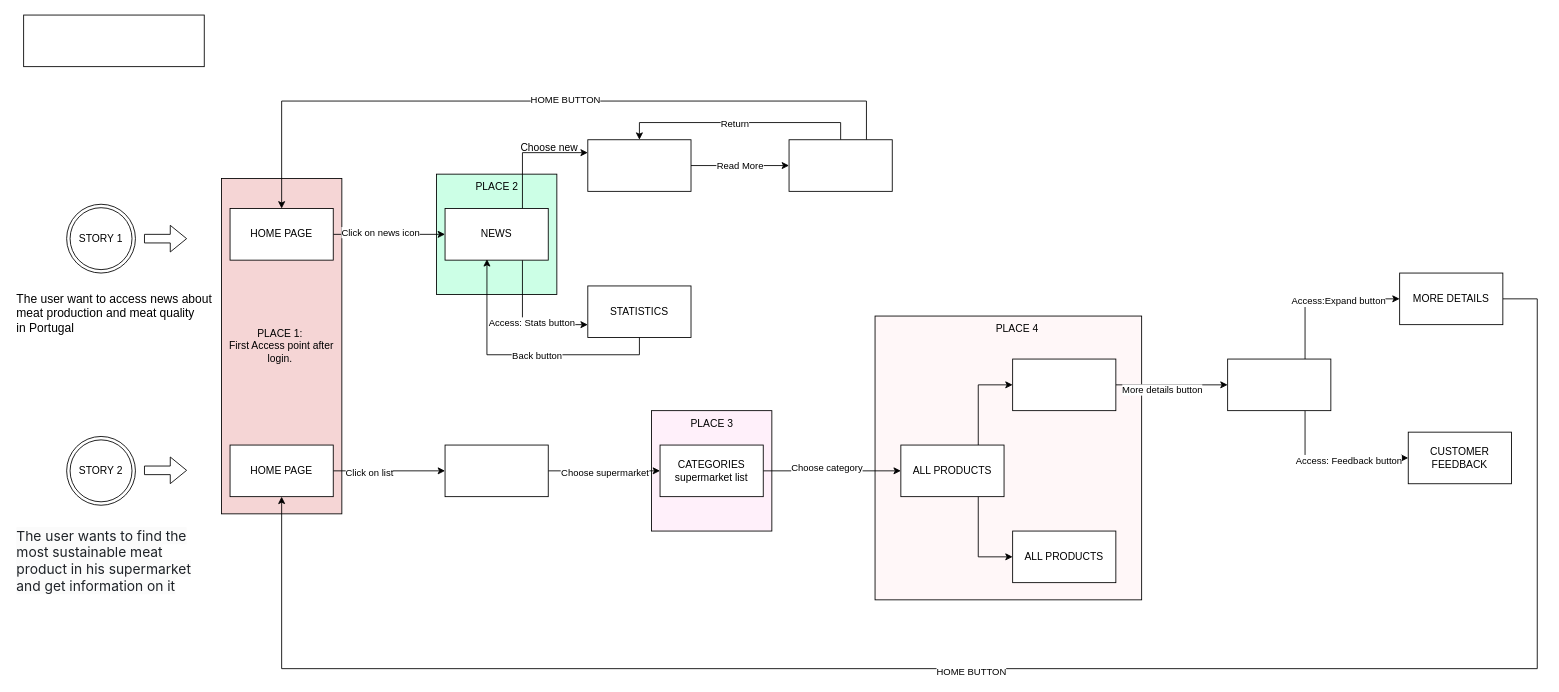
Image size: 1559x692. Some labels were removed from this diagram. Each missing label, with the centre of its shape:
"+ INFORMATION" goes at (x=840, y=165).
"LESS ENVIRONMENTAL IMPCAT PROD" goes at (x=1064, y=384).
"NEWS LIST" goes at (x=639, y=165).
"PROD DETAILS" goes at (x=1279, y=384).
"STORY + FE ORCHESTRATION" goes at (x=113, y=40).
"SUPERMARKET LIST" goes at (x=496, y=470).
